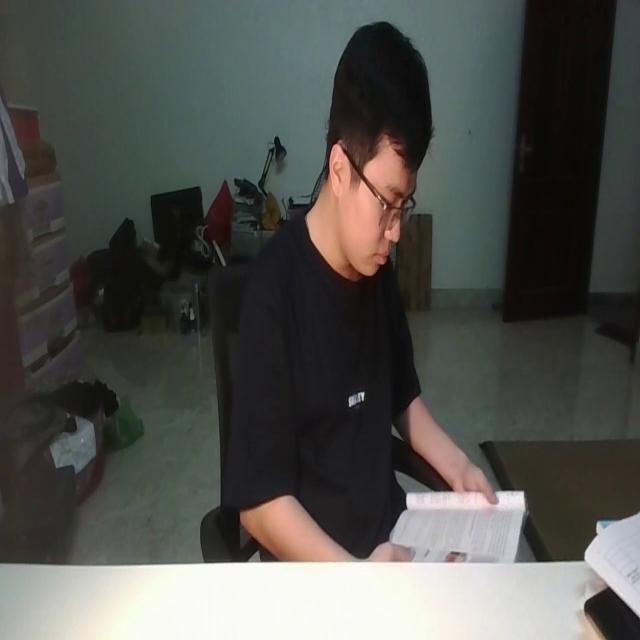book: (384, 480, 530, 561)
student: (219, 7, 501, 561)
